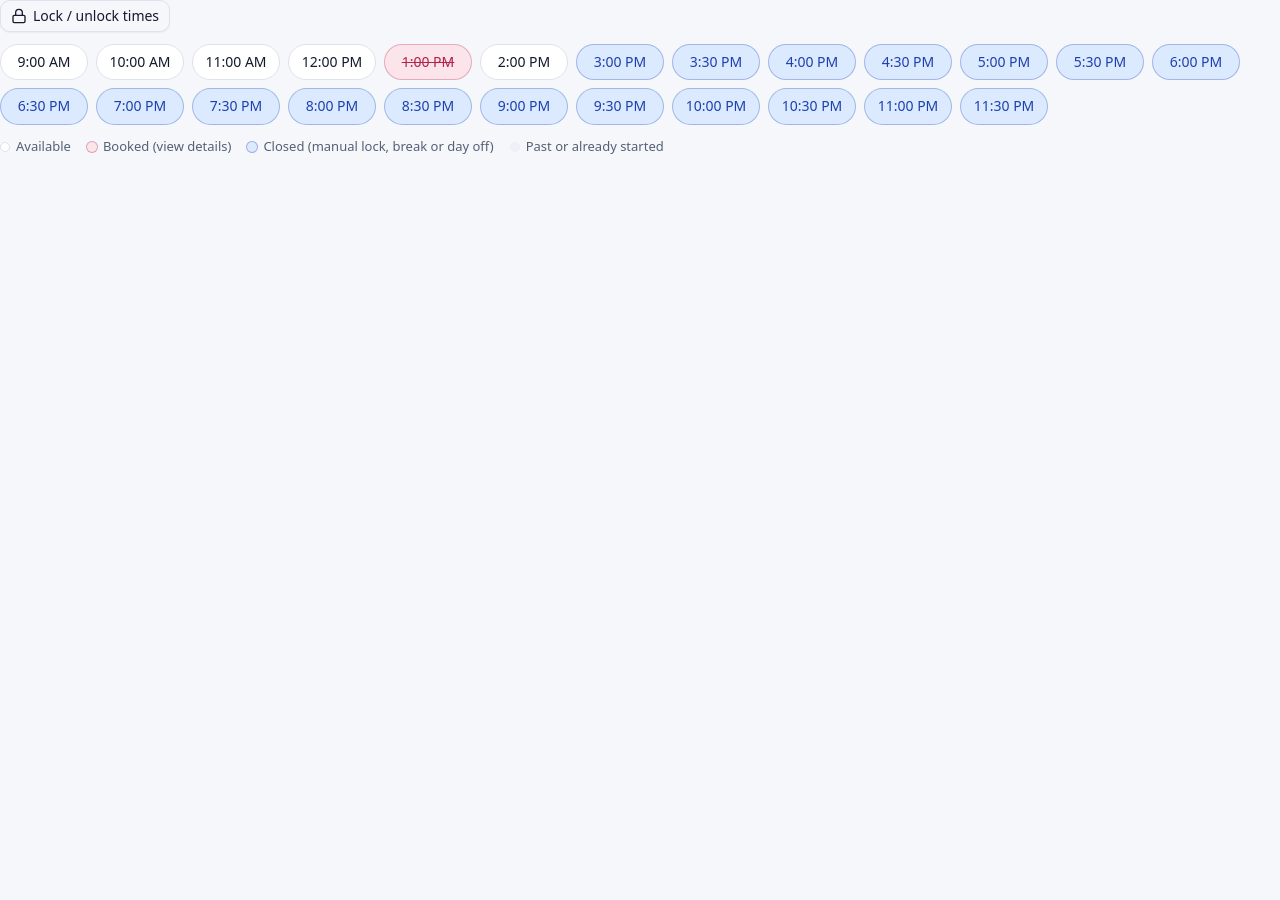
Test: booked hour bubble › keeps the bubble open after a single touch tap
Click the radio button with aria-label "1:00 PM, booked".
click(428, 62)  # box [384,44,472,80]
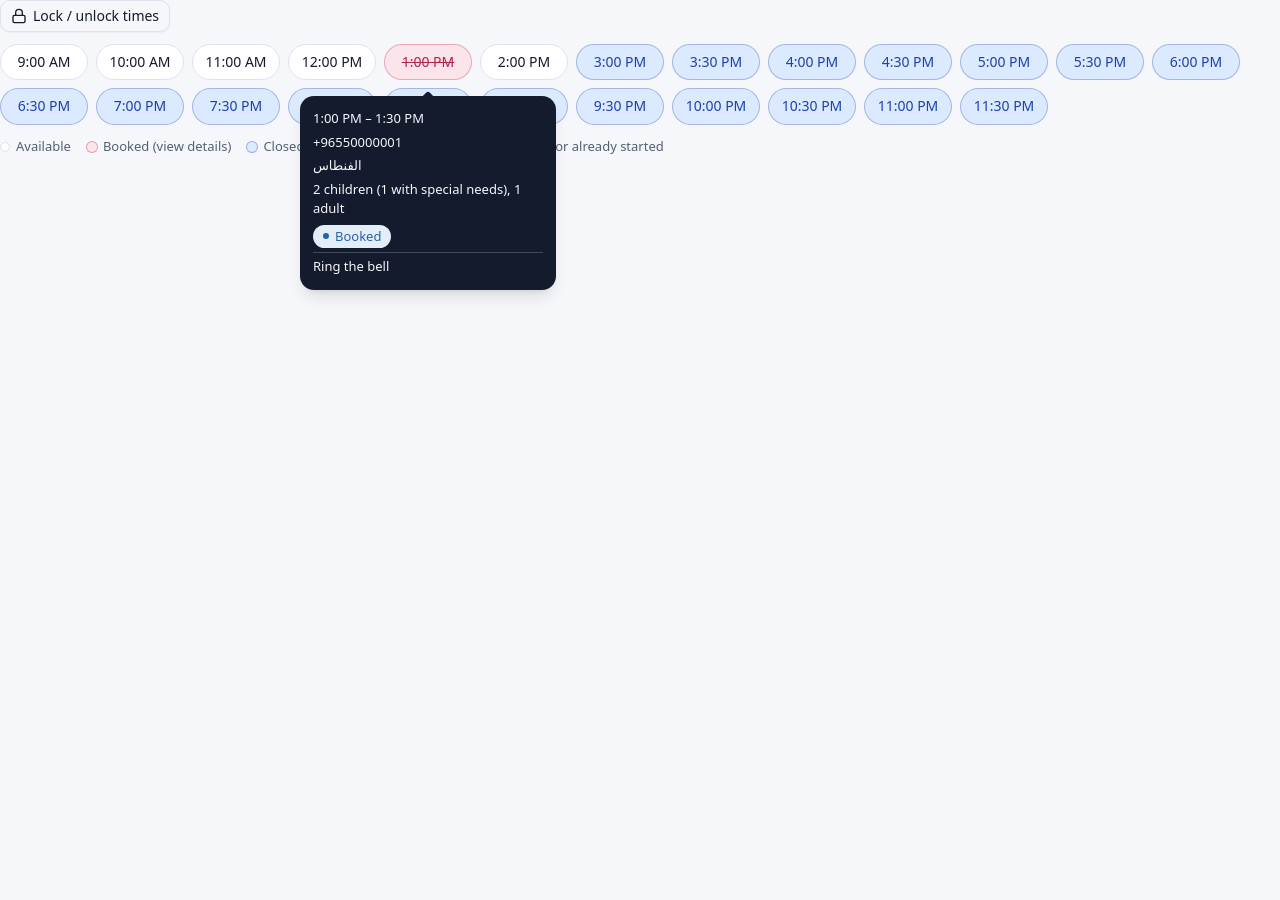
Now the text "+96550000001" is shown, box [313,132,402,150]
